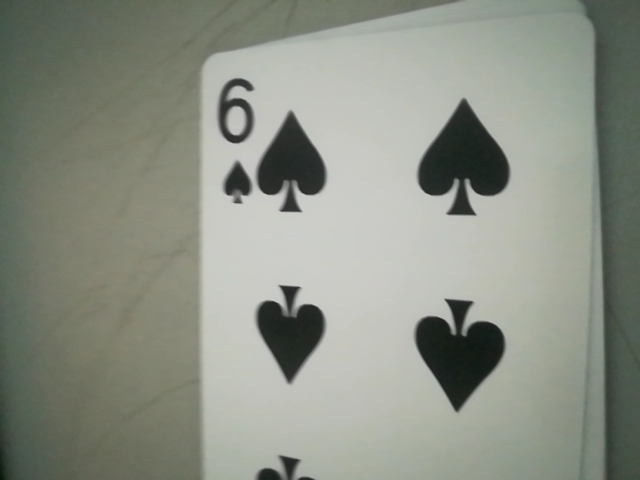ht 6: (203, 67, 269, 213)
